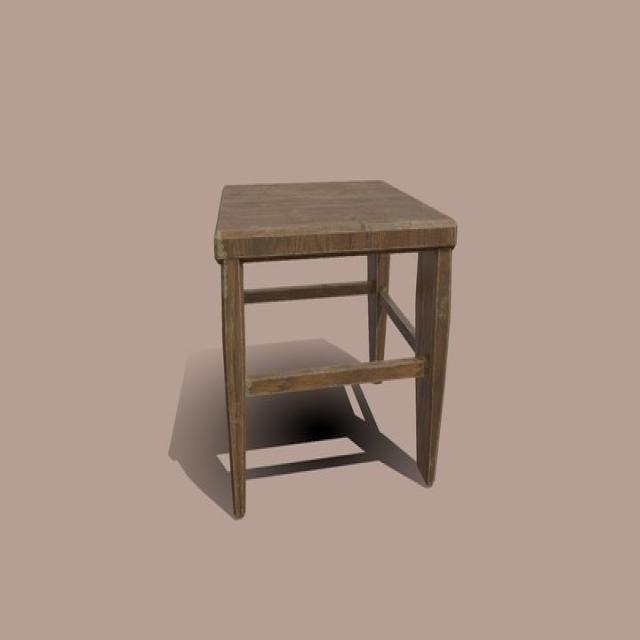table: (212, 178, 458, 518)
